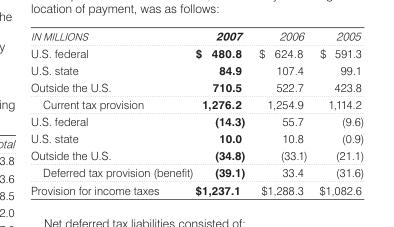table: (29, 28, 363, 196)
table column: (29, 28, 193, 196), (251, 28, 312, 196), (193, 28, 251, 196), (312, 28, 363, 196)
table column header: (29, 28, 363, 43)
table row: (29, 43, 363, 61), (29, 61, 363, 78), (29, 78, 363, 95), (29, 95, 363, 112), (29, 112, 363, 129), (29, 129, 363, 146), (29, 146, 363, 163), (29, 163, 363, 180), (29, 180, 363, 196), (29, 28, 363, 43)
